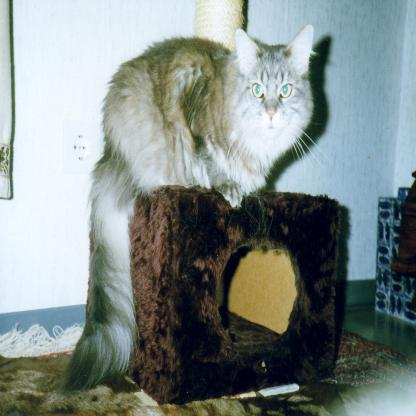Dog: (103, 22, 336, 256)
